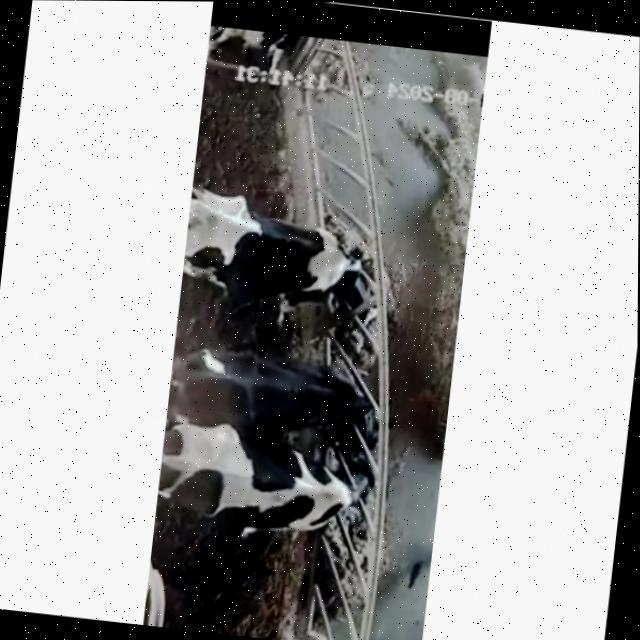eat: (264, 207, 436, 324), (280, 453, 420, 546), (277, 356, 421, 444)
